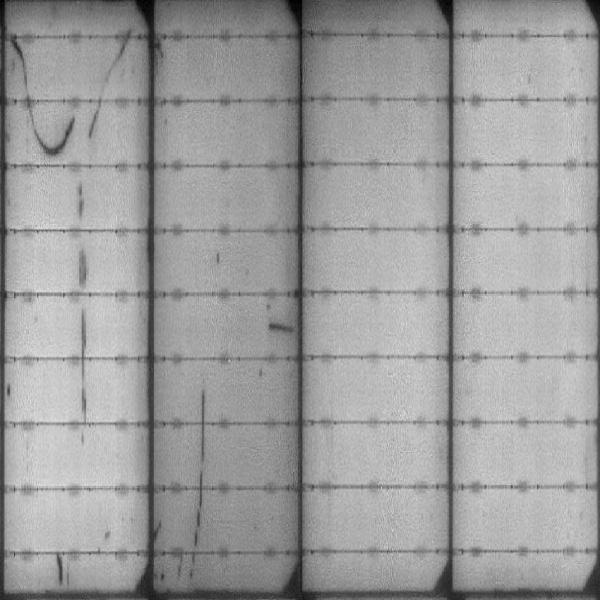scratch: (13, 99, 75, 156), (88, 40, 125, 135), (193, 389, 211, 580), (5, 35, 36, 103), (78, 309, 90, 425), (50, 548, 71, 588), (266, 318, 297, 338), (77, 245, 91, 289), (73, 182, 86, 218)
